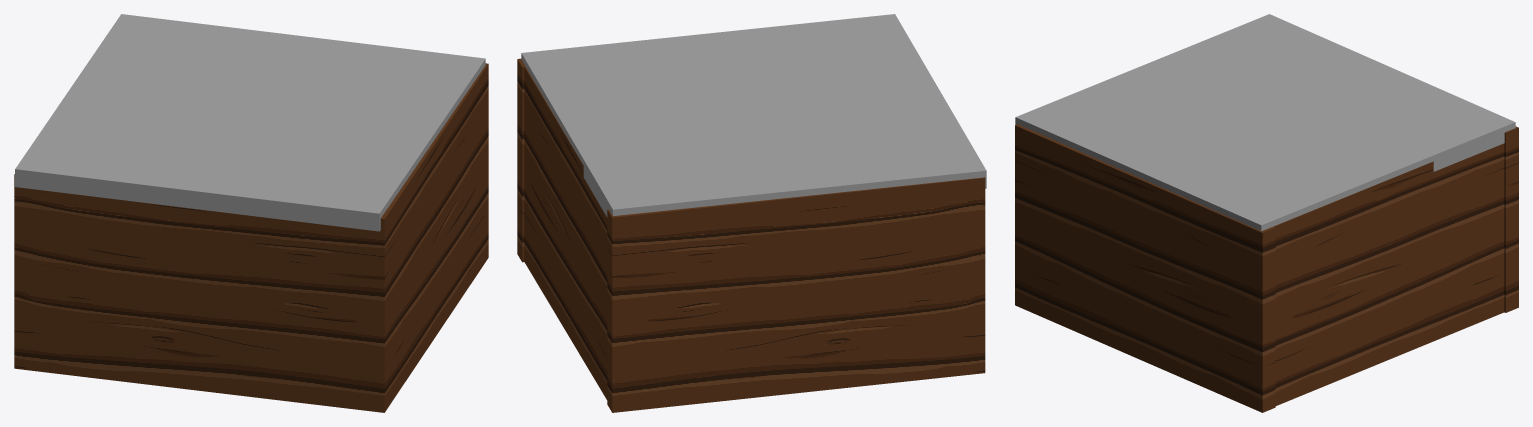
The model's file is hub.fbx.
3 renders of one model, left to right at view 1: azimuth 30°, elevation 25°; view 2: azimuth 150°, elevation 25°; view 3: azimuth 270°, elevation 25°, orthographic. The views are drawn at different scales.
Visible parts, largest first — view 1: walls, ceil; view 2: walls, ceil; view 3: walls, ceil.
Part boxes in pixels (x1,y1,x2,y2): walls: (14,63,488,412); ceil: (15,14,485,231); walls: (517,58,985,412); ceil: (521,14,986,217); walls: (1015,124,1518,412); ceil: (1015,14,1515,231).
Size of the model in its own units: 18.39 by 7.55 by 18.38.
